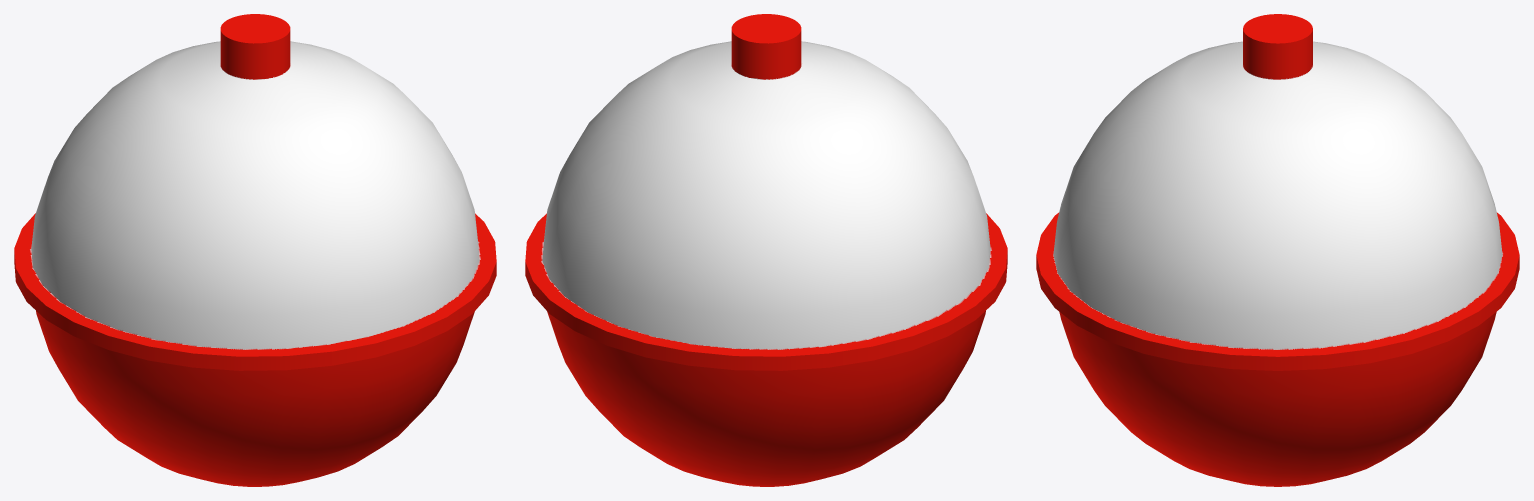
File: bobber.fbx
The picture shows the model from 3 angles, left to right: view 1: azimuth 30°, elevation 25°; view 2: azimuth 150°, elevation 25°; view 3: azimuth 270°, elevation 25°; orthographic projection.
Visible parts, largest first — view 1: Sphere; view 2: Sphere; view 3: Sphere.
Part boxes in pixels (x1,y1,x2,y2): Sphere: (14,14,496,486); Sphere: (525,14,1007,486); Sphere: (1036,14,1519,486).
Bounding box in the file's own units: 16.08 × 16.06 × 16.08.
